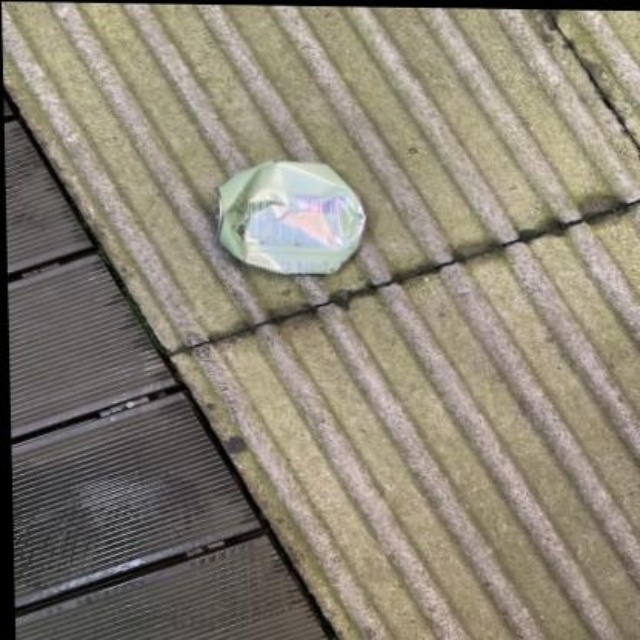trash: (218, 162, 365, 272)
